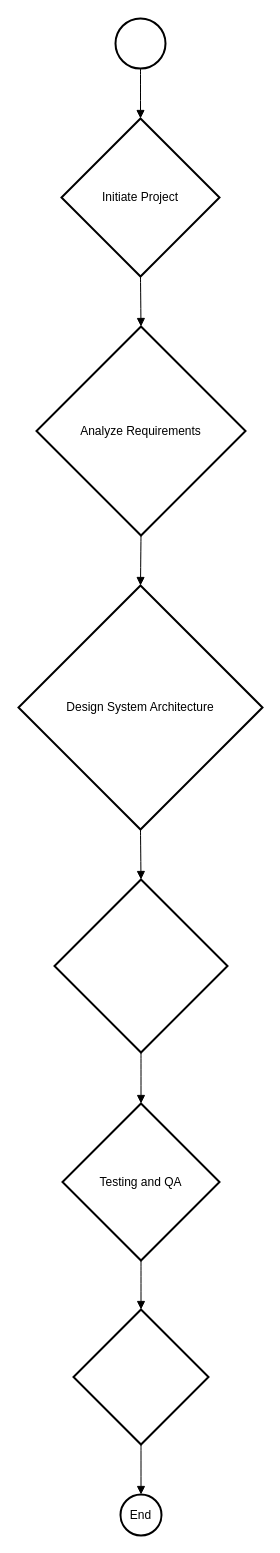
The diagram is 280 pixels wide and 1553 high, and some of its shapes have lost their labels. The centre of each missing label's shape, as x and y in pixels:
"Deployment" goes at pixel 140 1376.
"Develop Features" goes at pixel 140 965.
"Start" goes at pixel 140 43.
